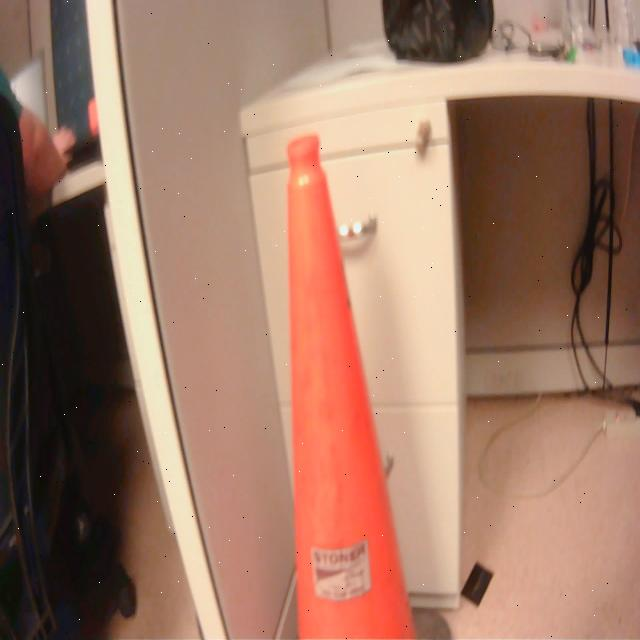traffic cone: (273, 131, 465, 640)
